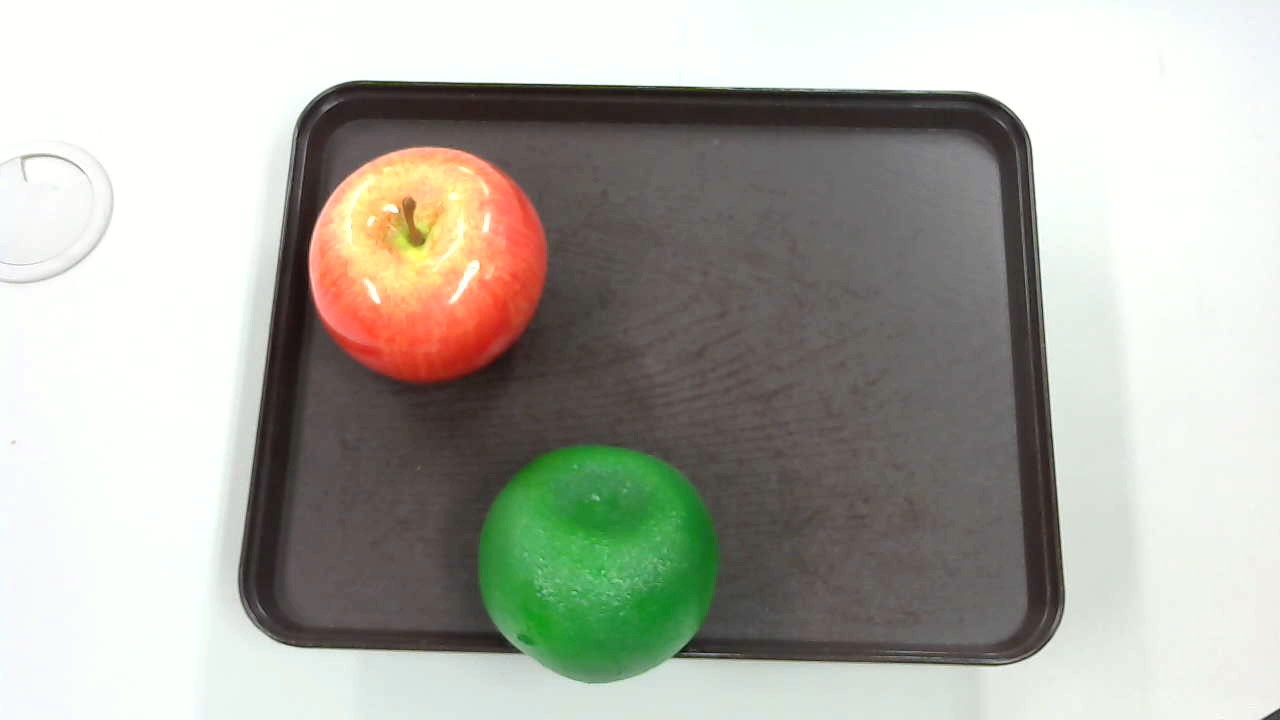green orange: (473, 435, 721, 686)
red apple: (300, 146, 554, 388)
